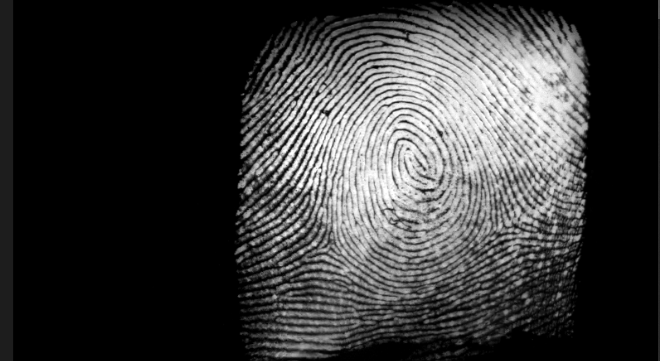nucelo: (388, 137, 430, 180)
verticilo: (478, 210, 531, 240), (304, 231, 346, 258)
